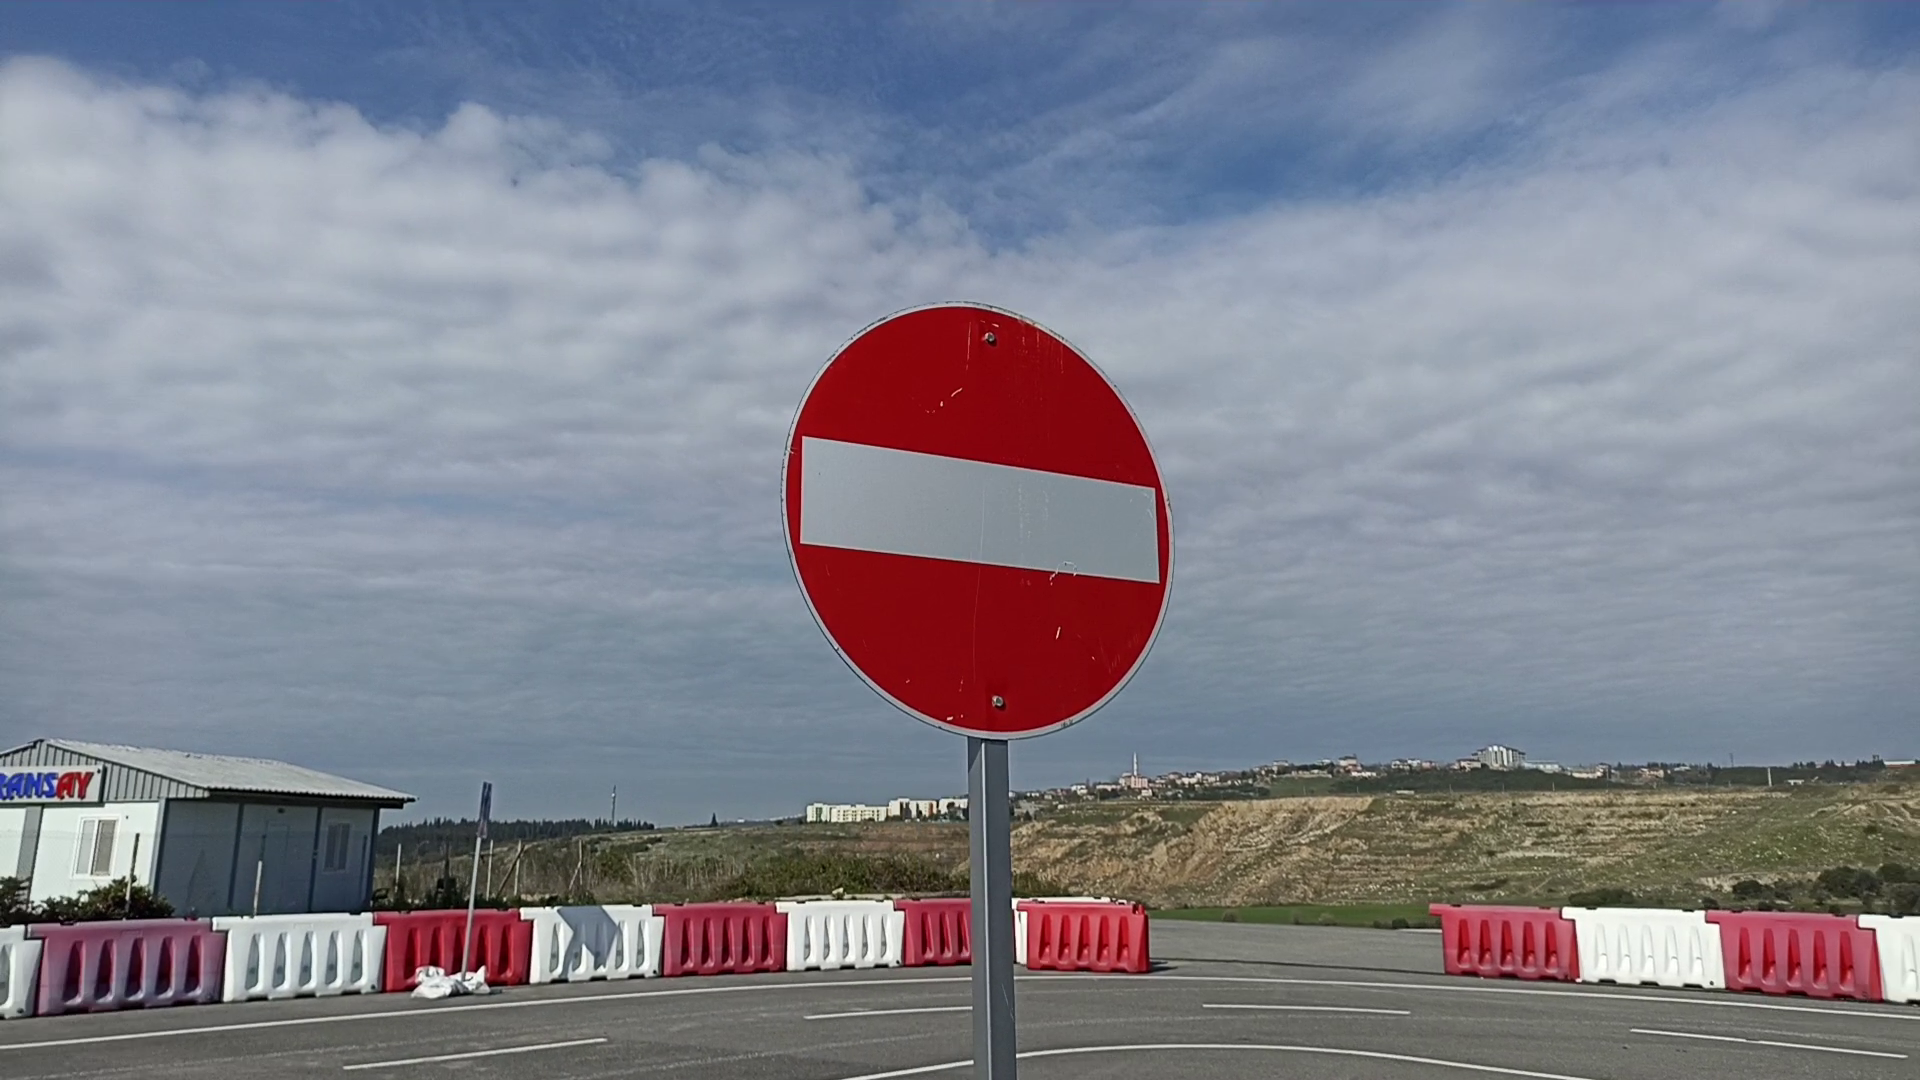noentryway: (773, 291, 1188, 746)
